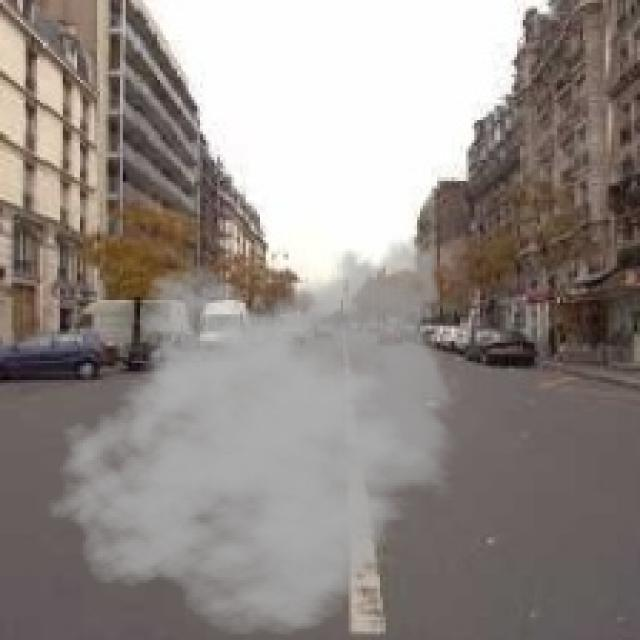Smoke: (46, 222, 466, 638)
